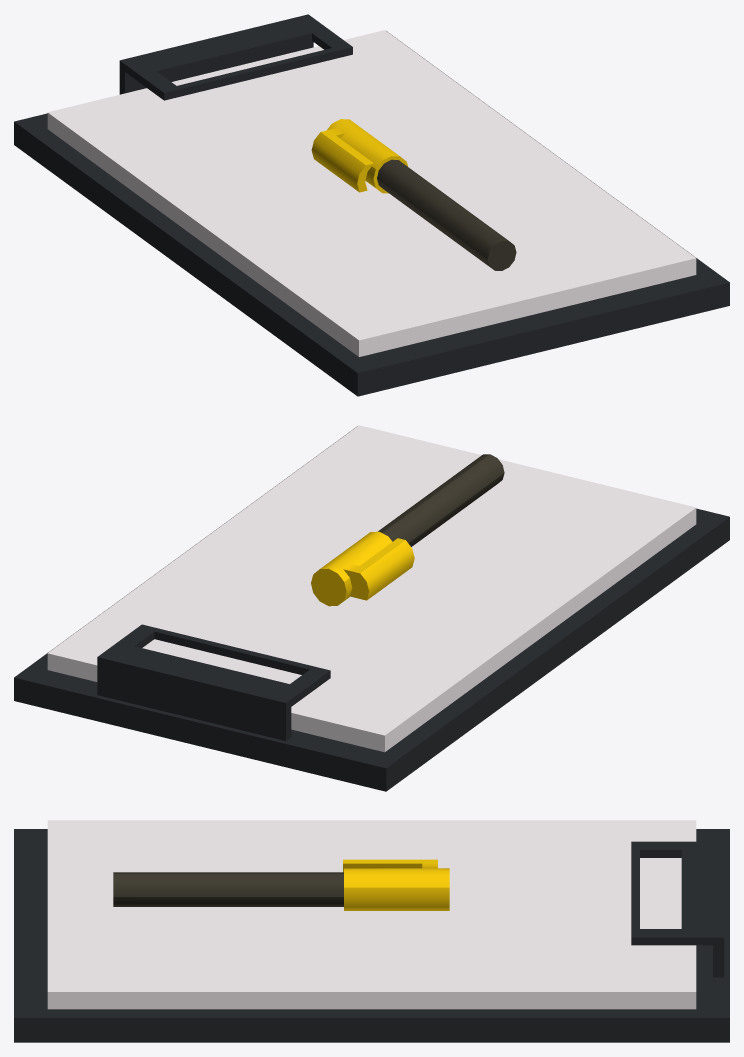
The model's file is Doc_Pen_Broken.fbx.
3 renders of one model, top to bottom at view 1: azimuth 30°, elevation 25°; view 2: azimuth 150°, elevation 25°; view 3: azimuth 270°, elevation 25°, orthographic. The views are drawn at different scales.
Visible parts, largest first — view 1: Doc_Pen.001, Doc_Pen.002, Doc_Pen.003; view 2: Doc_Pen.002, Doc_Pen.001, Doc_Pen.003; view 3: Doc_Pen.002, Doc_Pen.001, Doc_Pen.003.
Part boxes in pixels (left/top/right/bottom): Doc_Pen.001: left=111, top=177, right=729, bottom=396; Doc_Pen.002: left=14, top=14, right=627, bottom=215; Doc_Pen.003: left=311, top=119, right=516, bottom=270; Doc_Pen.002: left=14, top=493, right=483, bottom=791; Doc_Pen.001: left=256, top=425, right=729, bottom=719; Doc_Pen.003: left=311, top=454, right=504, bottom=606; Doc_Pen.002: left=227, top=820, right=729, bottom=1042; Doc_Pen.001: left=14, top=820, right=511, bottom=1042; Doc_Pen.003: left=113, top=859, right=449, bottom=910.
Size of the model in its own units: 85.08 by 16.95 by 136.
